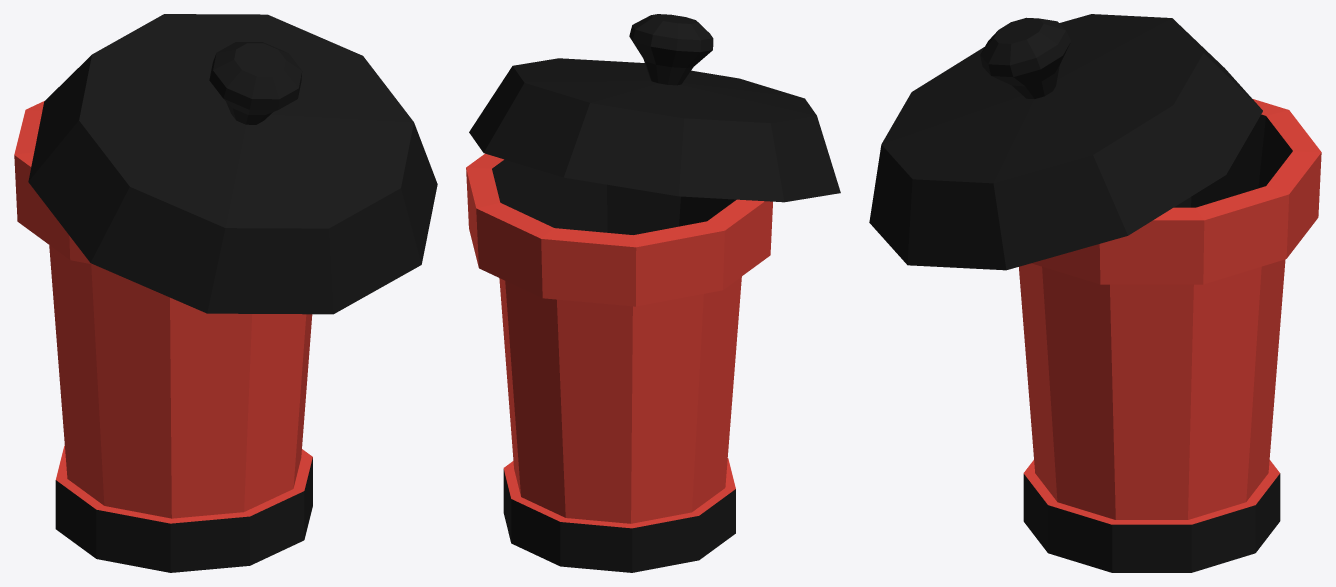
The model's file is dust_cane.fbx.
3 views of the same model, side by side, from view 1: azimuth 30°, elevation 25°; view 2: azimuth 150°, elevation 25°; view 3: azimuth 270°, elevation 25° (orthographic). The views are drawn at different scales.
Parts seen in each view (by area): view 1: Cylinder.029, Cylinder.028; view 2: Cylinder.028, Cylinder.029; view 3: Cylinder.028, Cylinder.029.
Boxes of the visible parts, box(x1,y1,x2,y2) form: Cylinder.029: box(28, 14, 437, 314); Cylinder.028: box(14, 101, 312, 572); Cylinder.028: box(466, 153, 772, 572); Cylinder.029: box(469, 14, 840, 202); Cylinder.028: box(1019, 99, 1321, 572); Cylinder.029: box(869, 14, 1262, 270).
Bounding box in the file's own units: 3.36 × 4.74 × 3.88.
